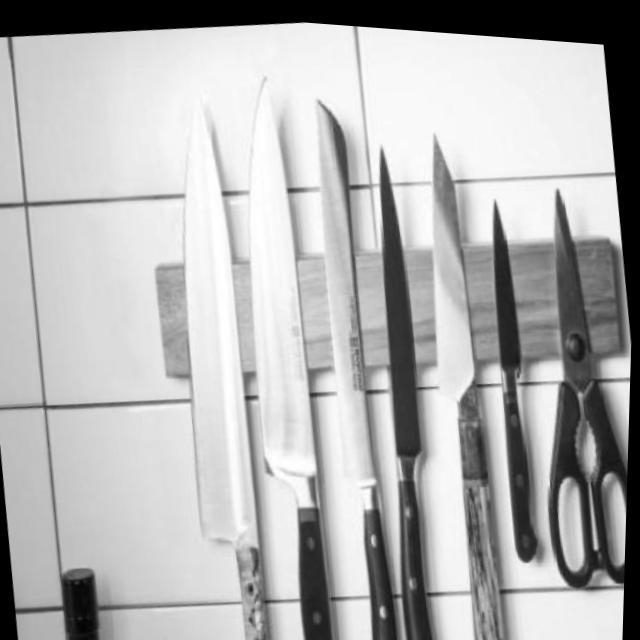weapon: (213, 65, 354, 640), (148, 89, 288, 640), (292, 86, 415, 640), (402, 121, 522, 640), (508, 168, 636, 582)
